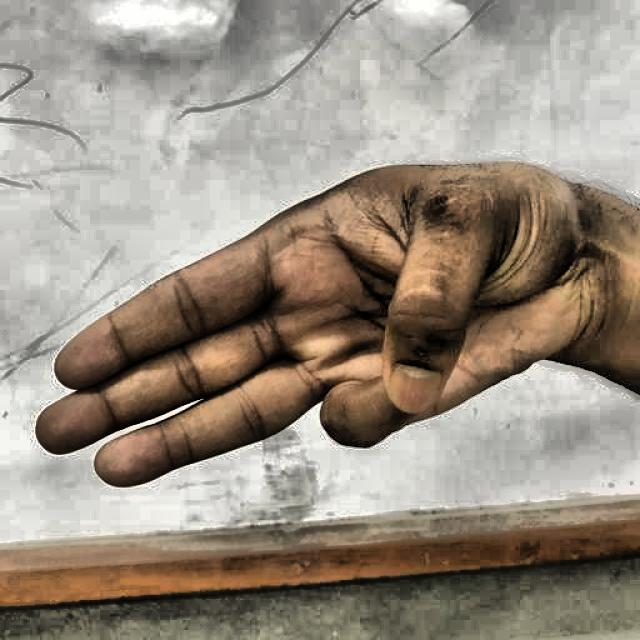Ma: (24, 131, 601, 554)
